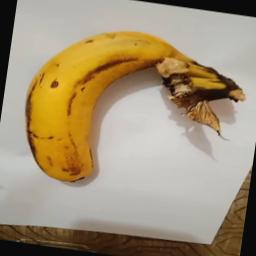Banana Unripe: (4, 16, 253, 210)
